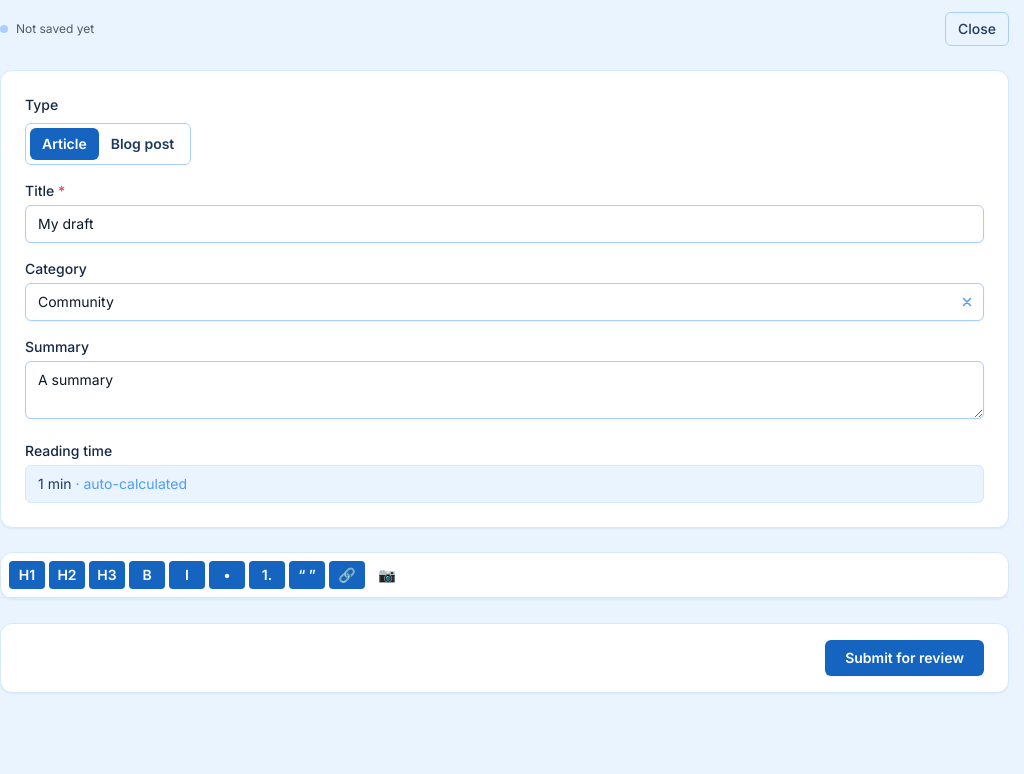
Test: DraftEditor › shows a conflict banner on a 412 and resolves by discarding local
Click the button "Submit for review": (905, 658) 825,640 -> 984,676
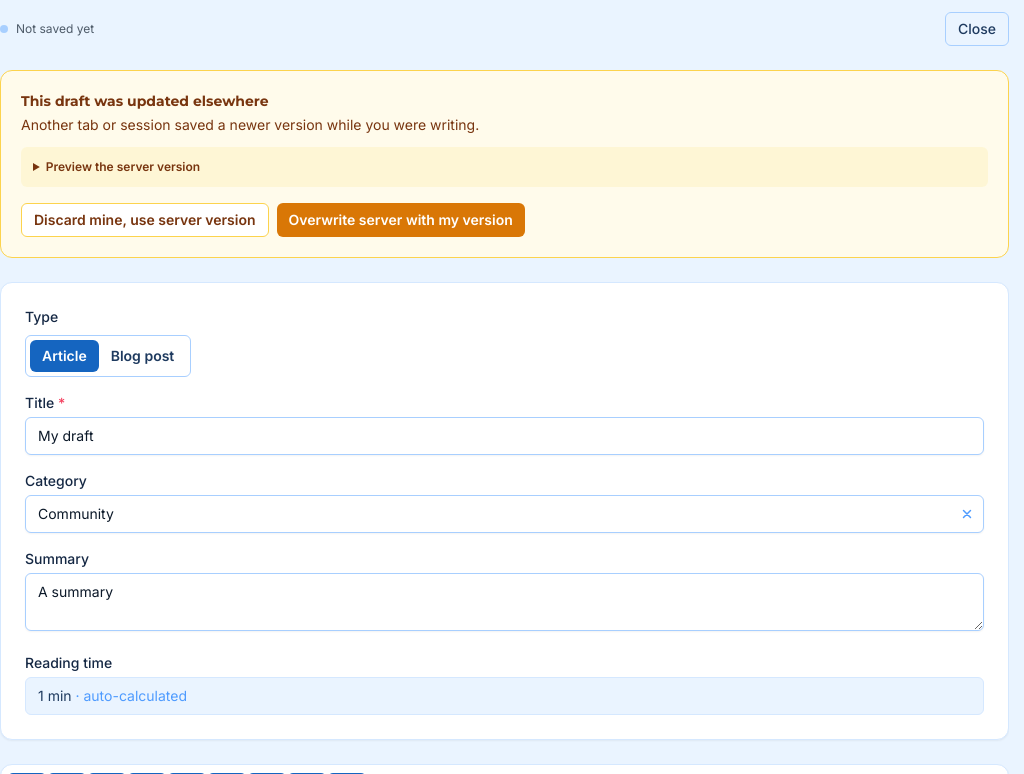
Check: the text "This draft was updated elsewhere" is shown, box 21,92 -> 269,110
Click the button "Discard mine, use server version": (145, 220) 21,203 -> 268,237
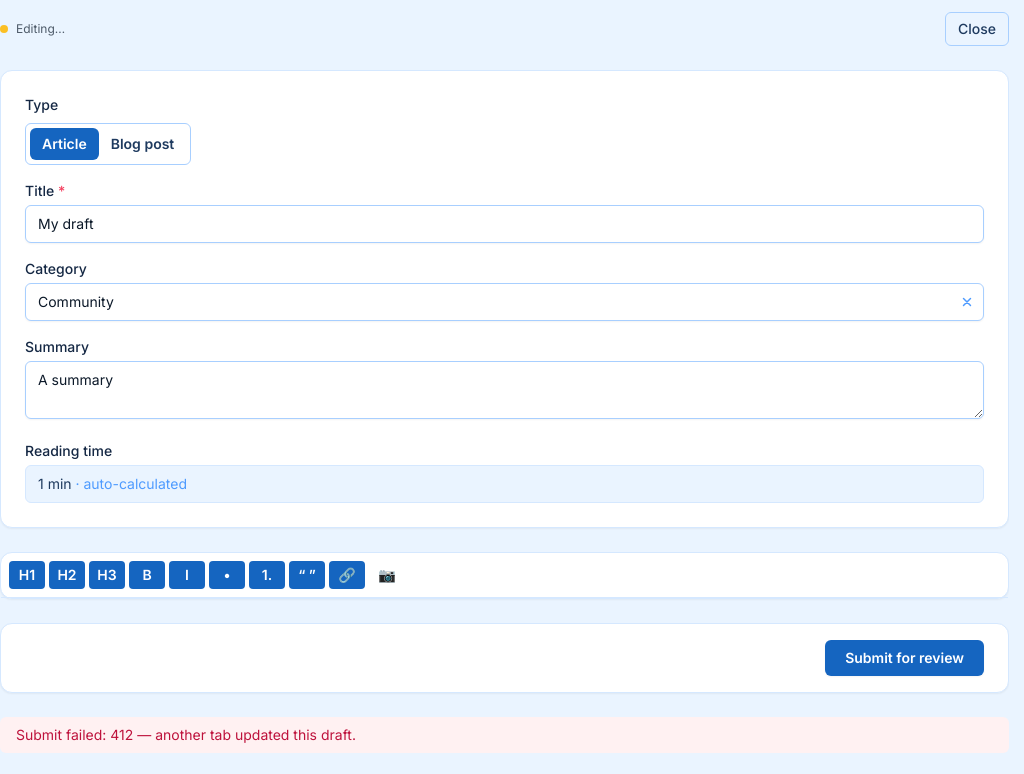
Check: the text "This draft was updated elsewhere" is gone
